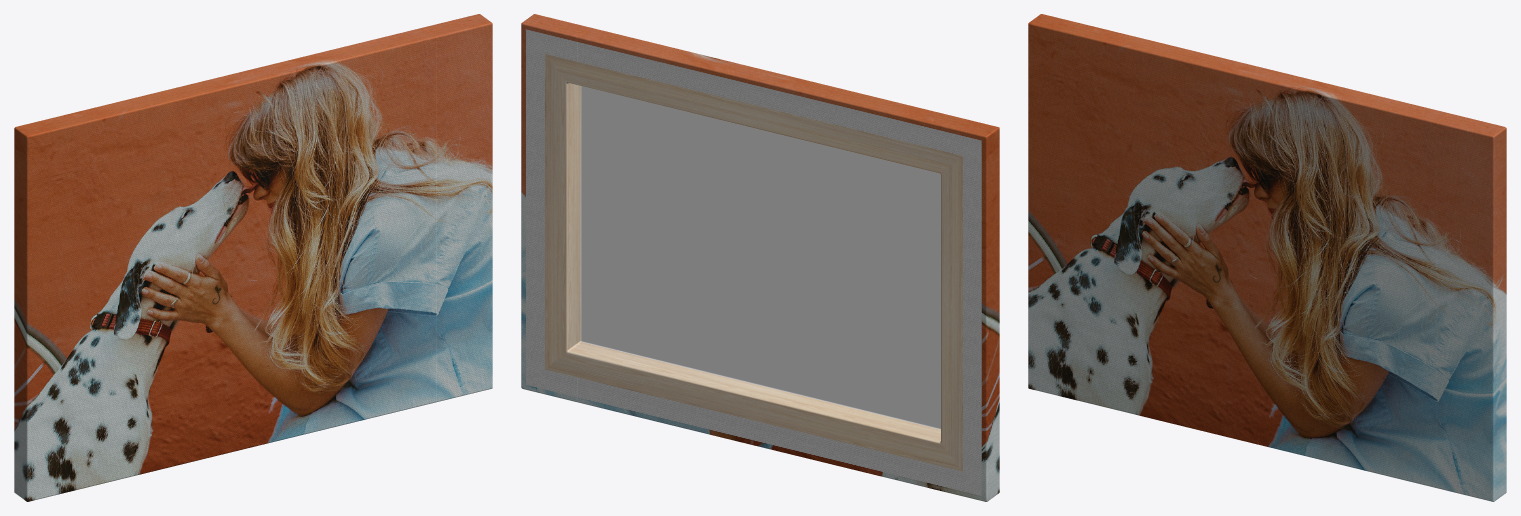
File: canvas.glb
3 views of the same model, side by side, from view 1: azimuth 30°, elevation 25°; view 2: azimuth 150°, elevation 25°; view 3: azimuth 330°, elevation 25° (orthographic).
Visible parts, largest first — view 1: Canvas; view 2: Canvas, Staples; view 3: Canvas.
Part boxes in pixels (x1,y1,x2,y2): Canvas: [14, 14, 492, 501]; Canvas: [521, 14, 999, 501]; Staples: [534, 42, 975, 483]; Canvas: [1028, 14, 1506, 501].
Bounding box in the file's own units: 0.4001 × 0.3001 × 0.0202.
2 materials, 1 textured.
